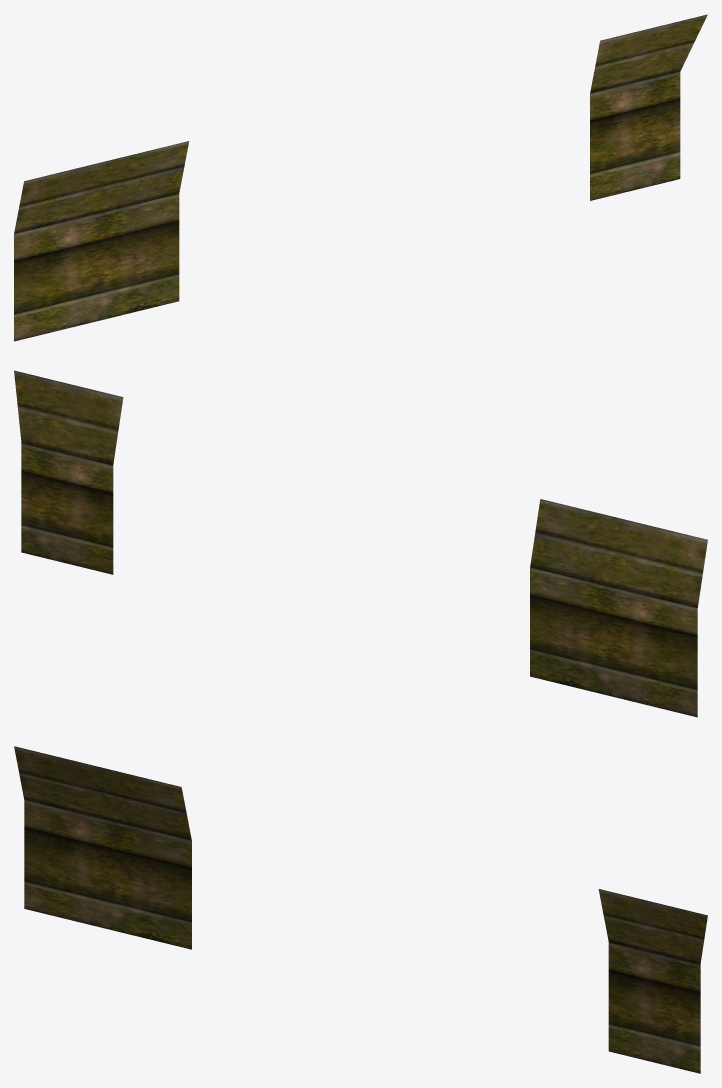
File: OVERHILL_A_01_OBJECT141.fbx
3 renders of one model, top to bottom at view 1: azimuth 30°, elevation 25°; view 2: azimuth 150°, elevation 25°; view 3: azimuth 330°, elevation 25°, orthographic.
Visible parts, largest first — view 1: OVERHILL_A_01_OBJECT141; view 2: OVERHILL_A_01_OBJECT141; view 3: OVERHILL_A_01_OBJECT141.
Part boxes in pixels (x1=…): OVERHILL_A_01_OBJECT141: x1=14, y1=14, x2=707, y2=341; OVERHILL_A_01_OBJECT141: x1=14, y1=370, x2=707, y2=717; OVERHILL_A_01_OBJECT141: x1=14, y1=746, x2=707, y2=1073.
Bounding box in the file's own units: 52745 × 12361 × 1348.
2 materials, 2 textured.
